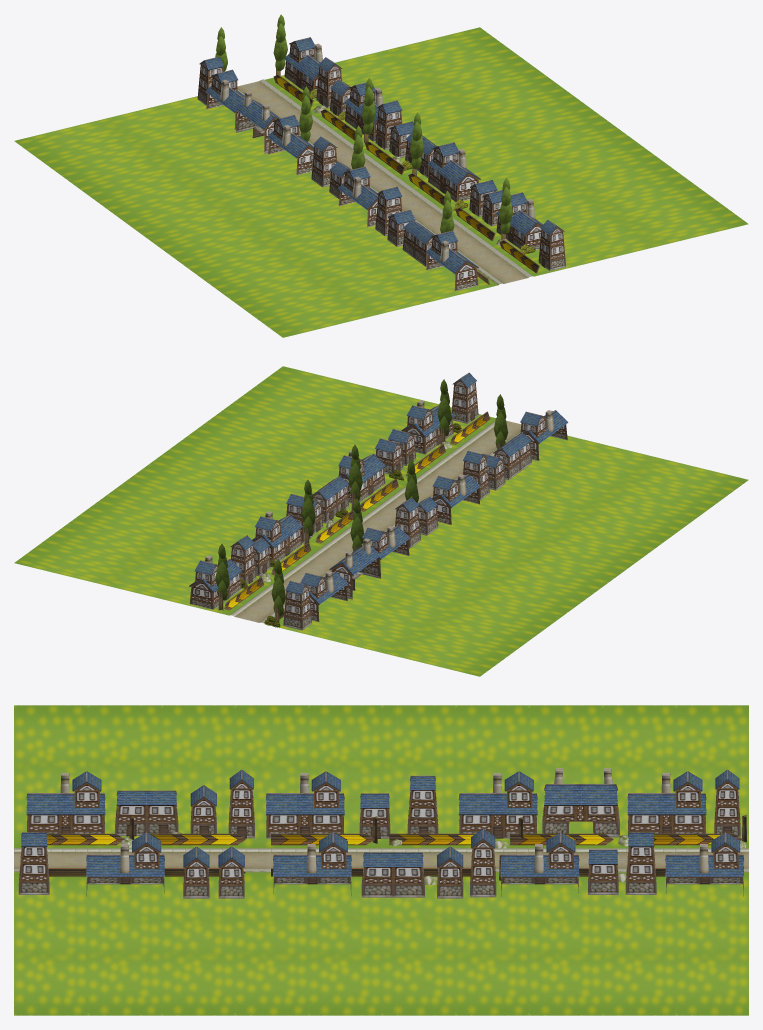
The model's file is VillageRoad02.FBX.
3 renders of one model, top to bottom at view 1: azimuth 30°, elevation 25°; view 2: azimuth 150°, elevation 25°; view 3: azimuth 270°, elevation 25°, orthographic. The views are drawn at different scales.
Visible parts, largest first — view 1: Road (×2), House (×22), Tree (×4); view 2: Road (×2), House (×21), Tree (×6); view 3: Road (×2), House (×23), Fence (×6).
Part boxes in pixels (x1,y1,x2,y2): Road (×2): [14, 27, 748, 337]; House (×22): [197, 37, 566, 290]; Tree (×4): [273, 14, 513, 239]; Road (×2): [14, 366, 748, 676]; House (×21): [189, 372, 568, 630]; Tree (×6): [215, 379, 508, 622]; Road (×2): [14, 705, 748, 1015]; House (×23): [18, 768, 743, 898]; Fence (×6): [21, 833, 742, 845].
Size of the model in its own units: 10000 by 1396 by 10000.
